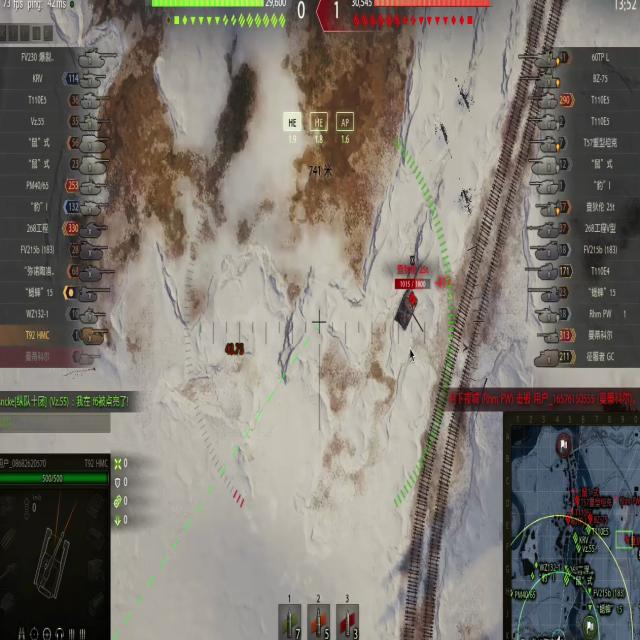tank: (392, 276, 430, 329)
